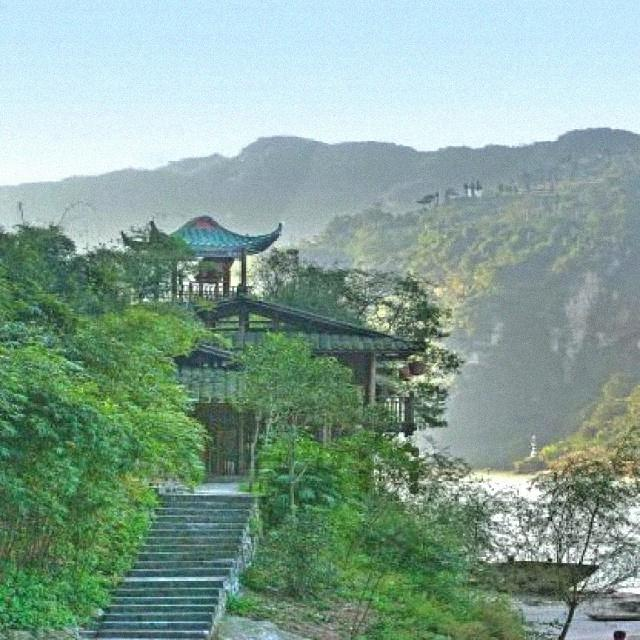stair: (71, 492, 260, 640)
